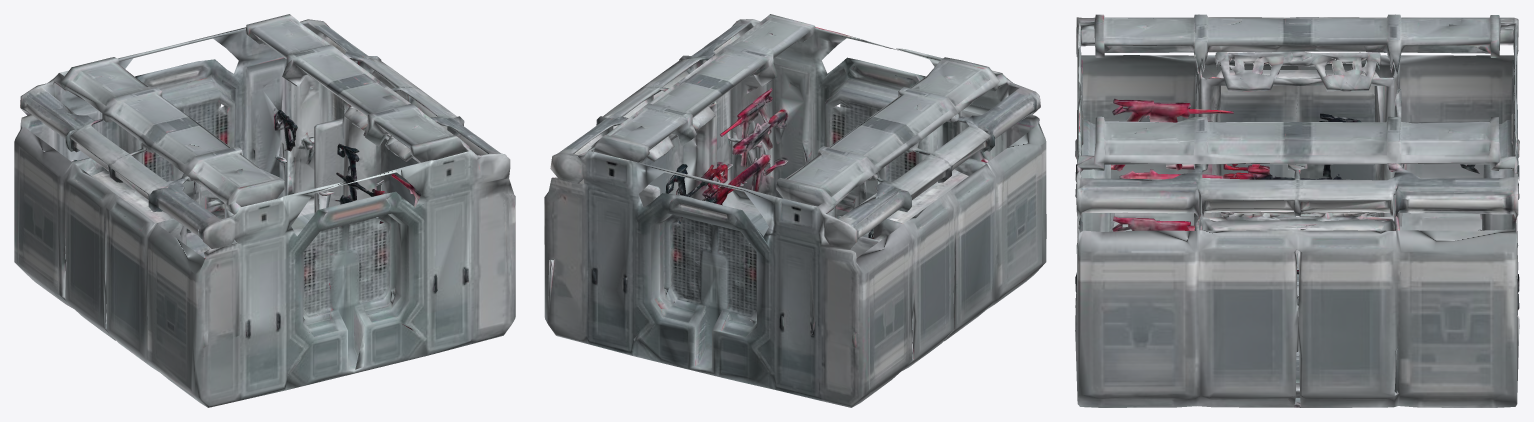
File: frigate_armory.repacked.glb
3 views of the same model, side by side, from view 1: azimuth 30°, elevation 25°; view 2: azimuth 150°, elevation 25°; view 3: azimuth 270°, elevation 25° (orthographic). The views are drawn at different scales.
Parts seen in each view (by area): view 1: Mesh1.0; view 2: Mesh1.0; view 3: Mesh1.0.
Part boxes in pixels (box(x1,y1,x2,y2)): Mesh1.0: box(14, 14, 515, 407); Mesh1.0: box(544, 14, 1046, 407); Mesh1.0: box(1075, 14, 1519, 407).
Size of the model in its own units: 1.91 by 1.18 by 1.92.
Materials: 1 (1 with a texture image).
